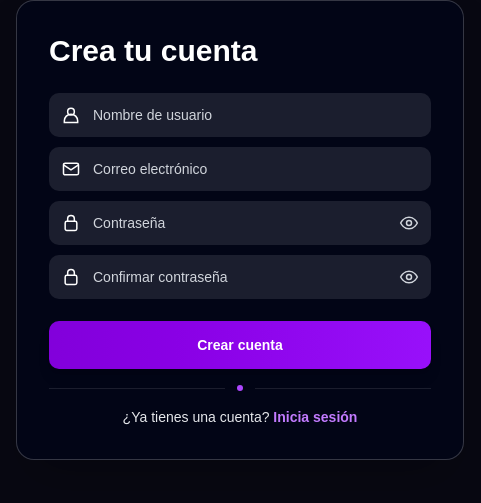
Scenario: RegisterForm › should reject an invalid email
Type "testuser" into the field labelled "Nombre de usuario".
click(256, 115); type("testuser")  # box [93, 93, 419, 137]
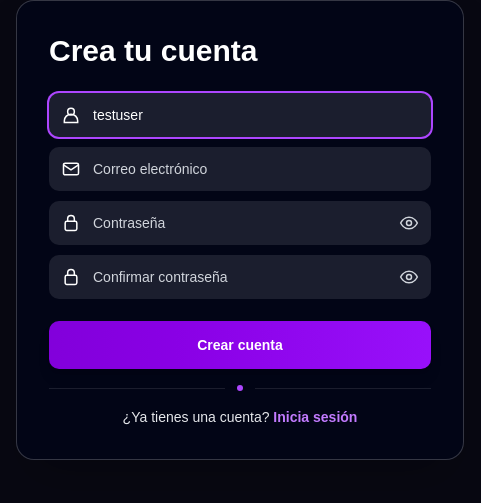
Type "invalid-email" into the field labelled "Correo electrónico".
click(256, 169); type("invalid-email")  # box [93, 147, 419, 191]
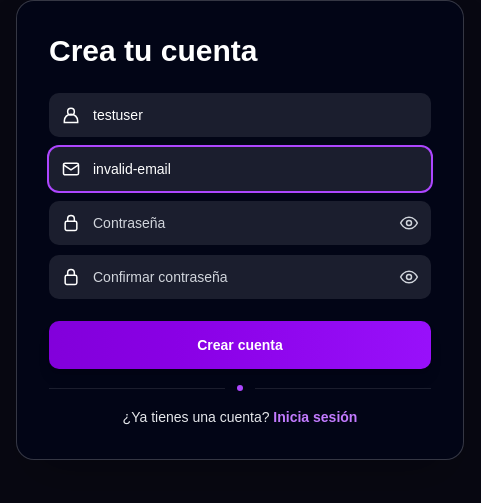
Type "Password123" into the password field labelled "Contraseña".
click(240, 223); type("Password123")  # box [93, 201, 387, 245]
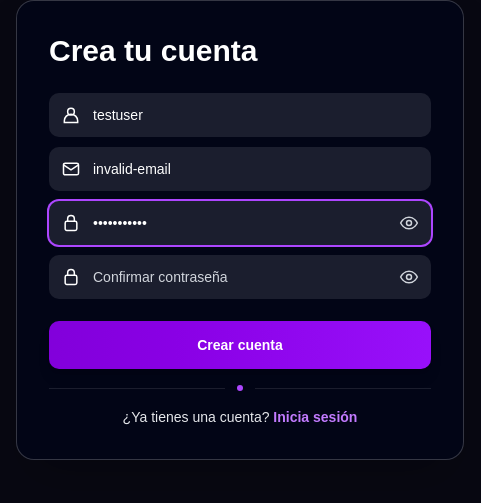
Type "Password123" into the password field labelled "Confirmar contraseña".
click(240, 277); type("Password123")  # box [93, 255, 387, 299]
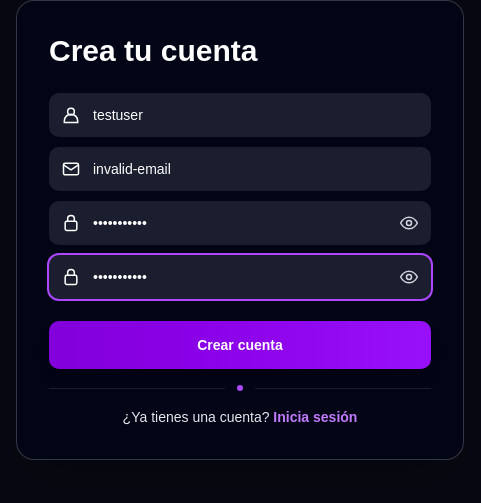
Click the button "Crear cuenta".
click(240, 345)  # box [49, 321, 431, 369]
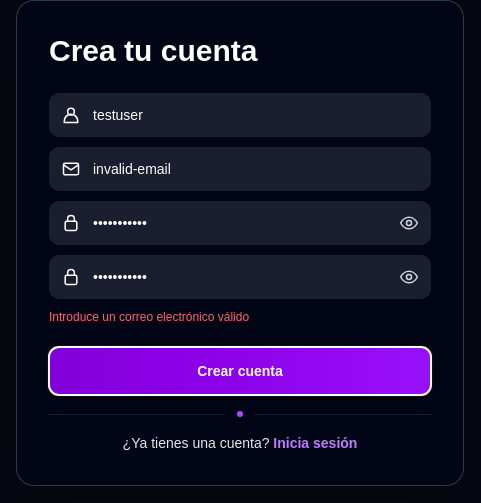
Now the message reads "Introduce un correo electrónico válido", box [49, 310, 249, 324]
